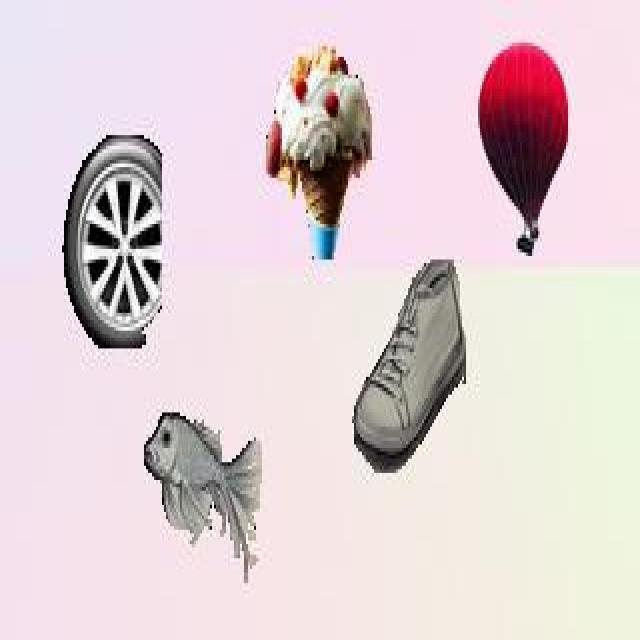Other Objects: (352, 259, 466, 472), (477, 42, 568, 256)
